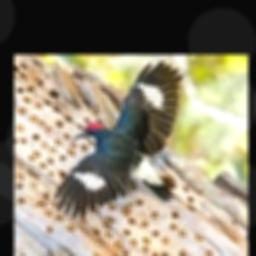Woodpecker: (53, 61, 182, 218)
